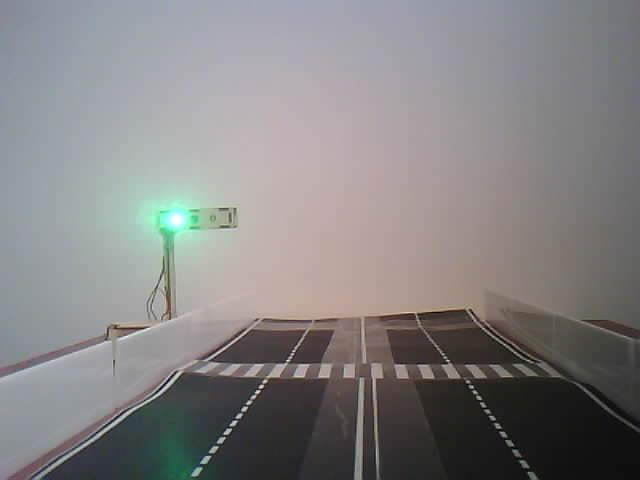green: (127, 197, 280, 254)
